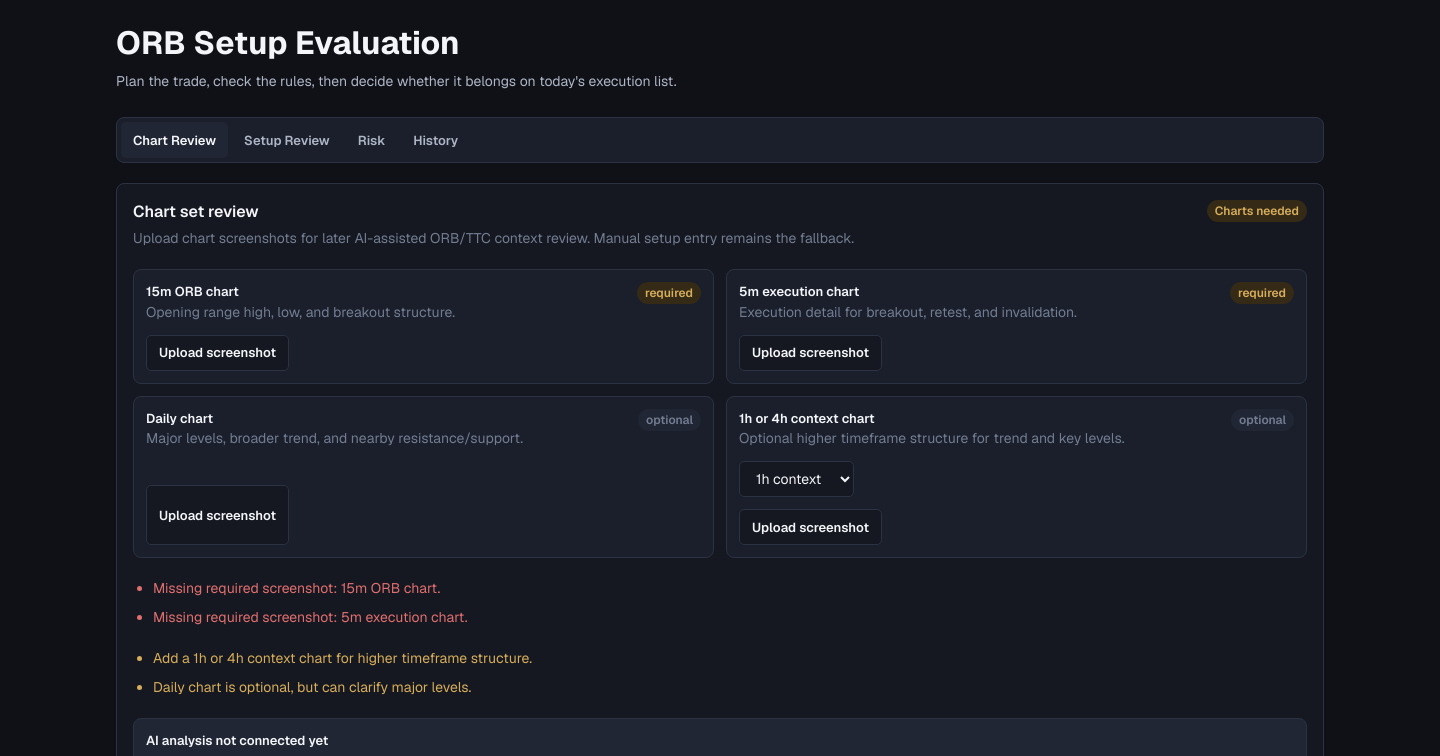
Test: SetupEntry local history › shows recoverable messages when local storage reads fail
The image size is (1440, 756).
What coordinates should you click on to do the following:
click the tab "History"
I would click on:
 (436, 140)
Its box is [401,122,470,158].
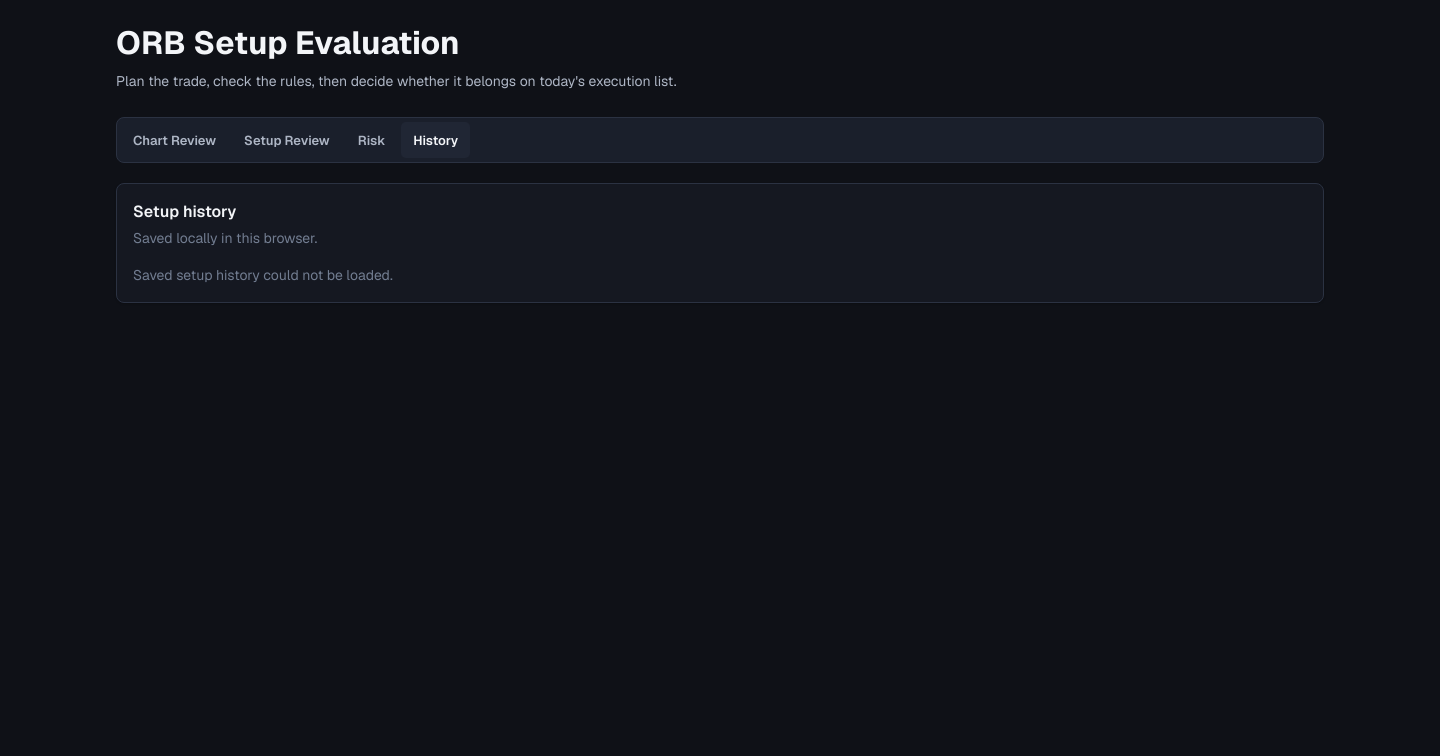
Expected: the text "Saved setup history could not be loaded." is shown, [133,266,393,284]
What coordinates should you click on to do the following:
click the tab "Risk"
I would click on:
 (372, 140)
Its box is [346,122,397,158].
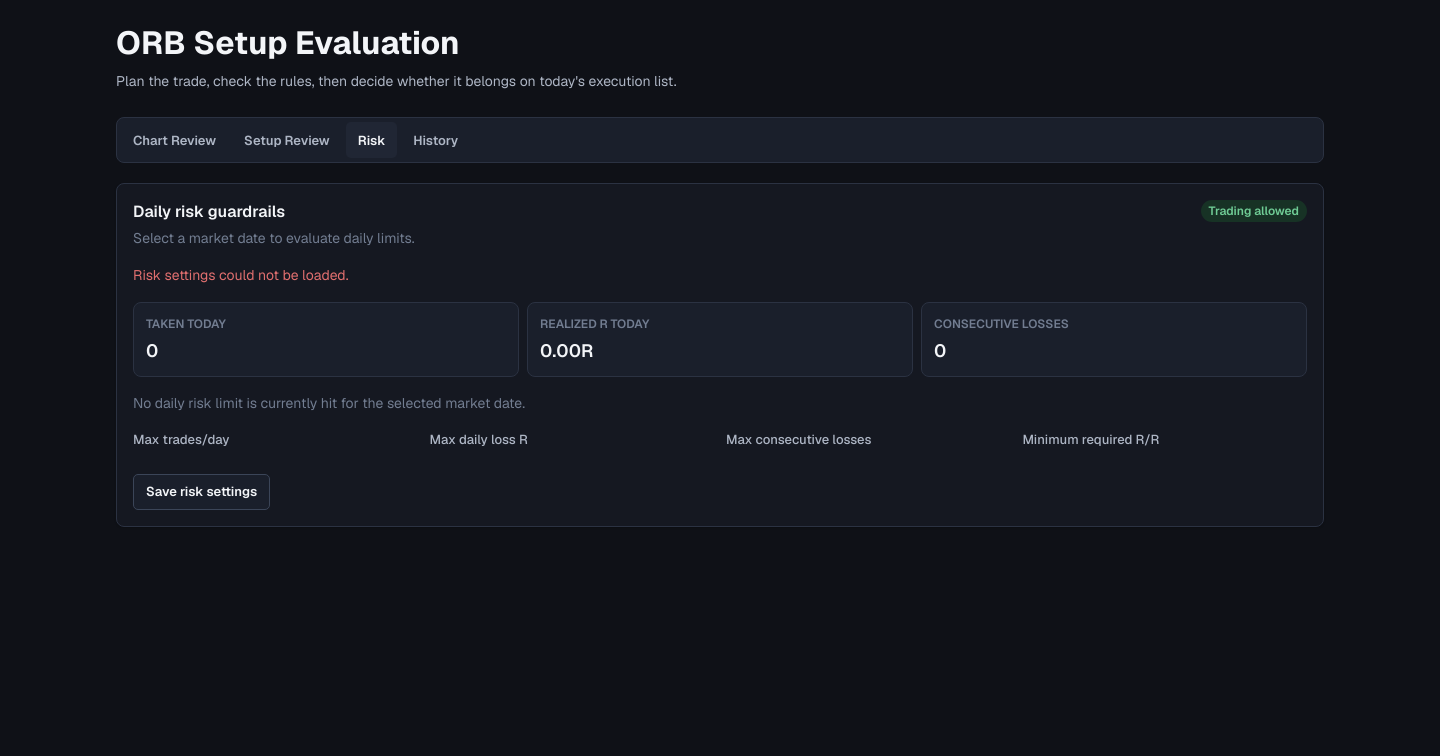
Expected: the text "Risk settings could not be loaded." is shown, [133,266,348,284]
What coordinates should you click on to do the following:
click the tab "Setup Review"
I would click on:
 (287, 140)
Its box is [232,122,342,158].
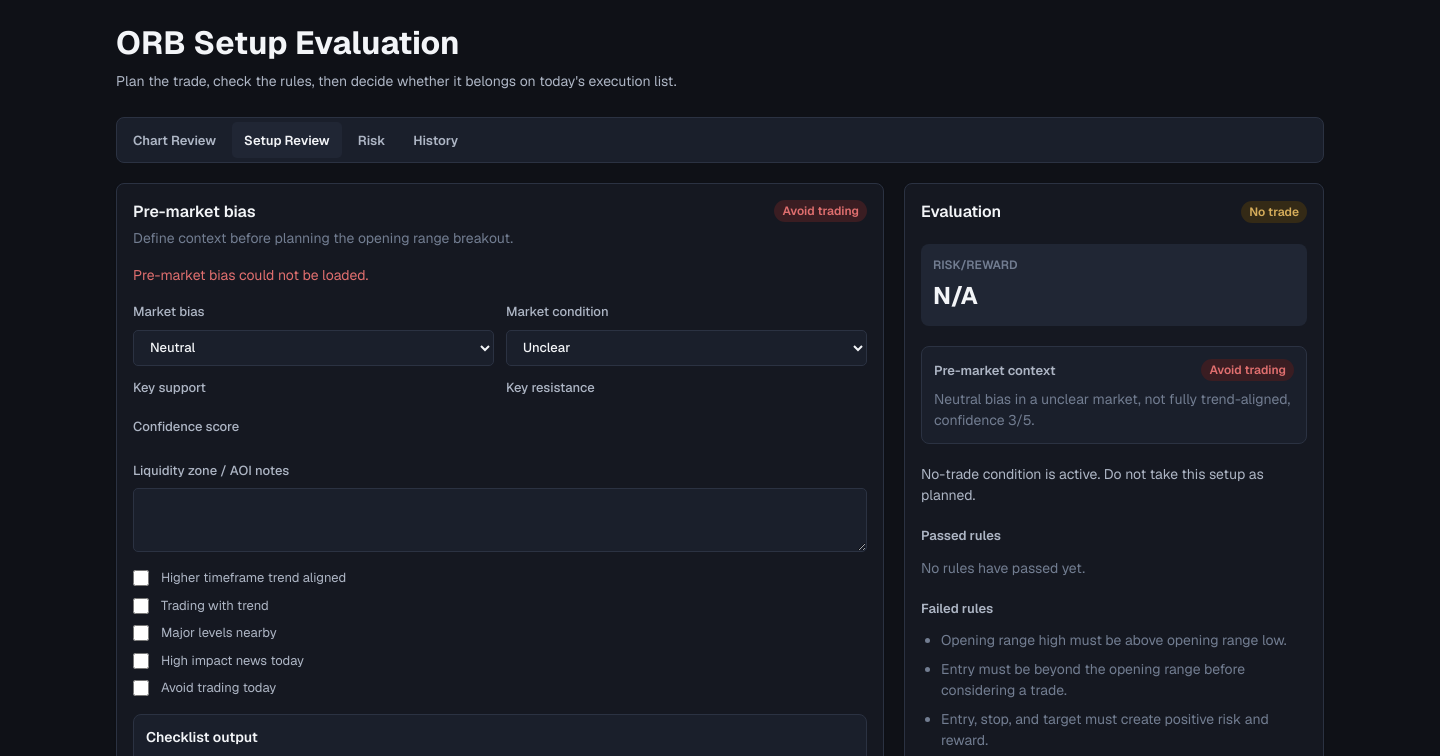
Expected: the text "Pre-market bias could not be loaded." is shown, [133,266,368,284]
